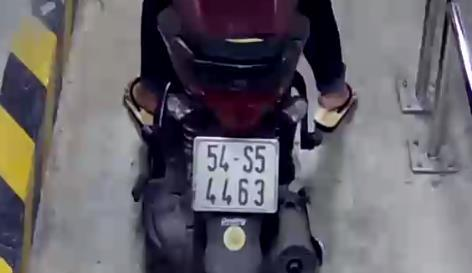lisence: (191, 135, 279, 214)
